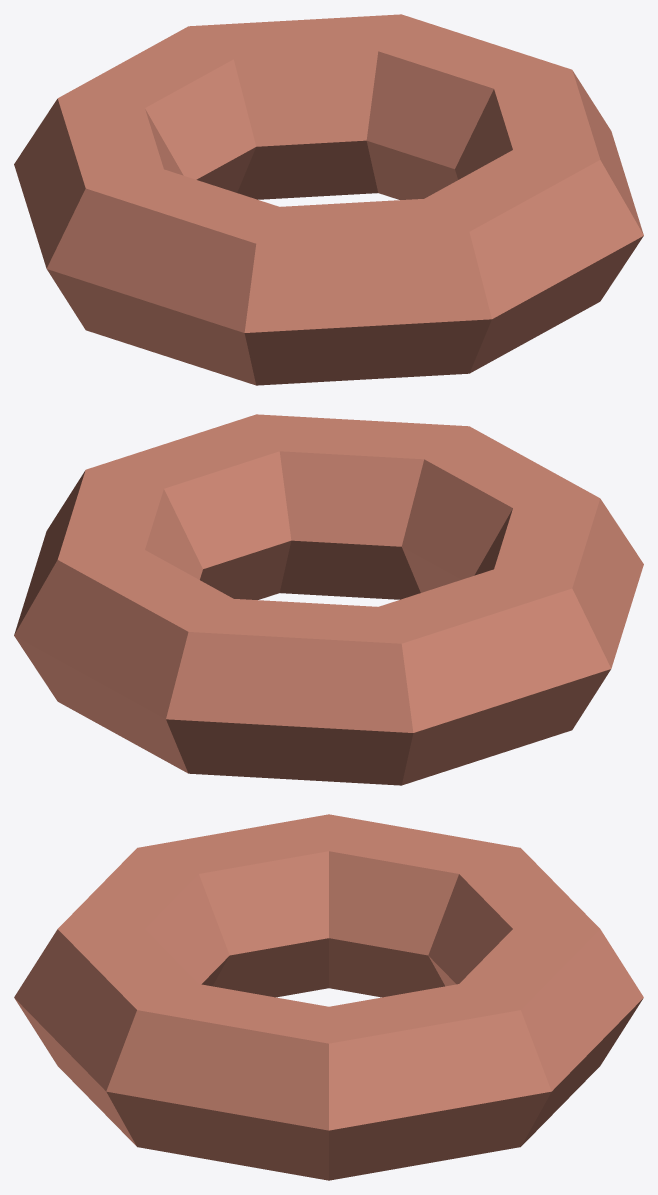
3 views of the same model, one above another, from view 1: azimuth 30°, elevation 25°; view 2: azimuth 150°, elevation 25°; view 3: azimuth 270°, elevation 25° (orthographic). The views are drawn at different scales.
Parts seen in each view (by area): view 1: part0; view 2: part0; view 3: part0.
Boxes of the visible parts, left/top/right/bottom form: part0: left=14, top=14, right=643, bottom=385; part0: left=14, top=414, right=643, bottom=785; part0: left=14, top=814, right=643, bottom=1180.
Bounding box in the file's own units: 3.32 × 0.7967 × 3.32.
